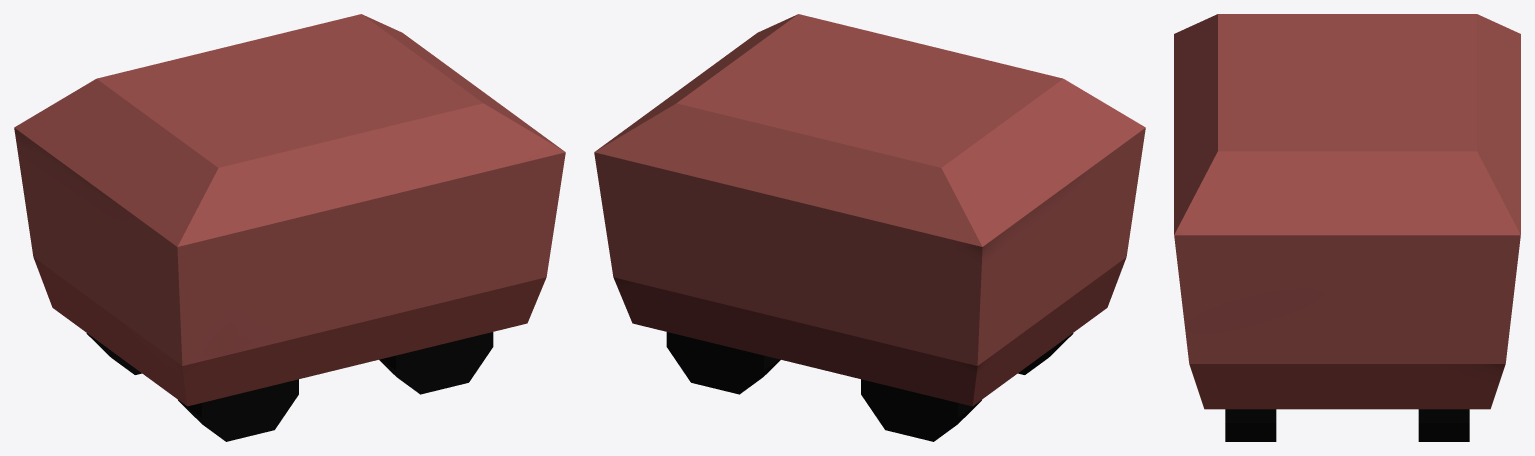
Rendered from Platform.obj.
3 renders of one model, left to right at view 1: azimuth 30°, elevation 25°; view 2: azimuth 150°, elevation 25°; view 3: azimuth 270°, elevation 25°, orthographic. The views are drawn at different scales.
Visible parts, largest first — view 1: Cube; view 2: Cube; view 3: Cube.
Boxes of the visible parts, x1,y1,x2,y2 form: Cube: (14, 14, 565, 441); Cube: (594, 14, 1145, 441); Cube: (1174, 14, 1520, 441).
Bounding box in the file's own units: 2.21 × 1.52 × 1.61.
1 material, 1 textured.
